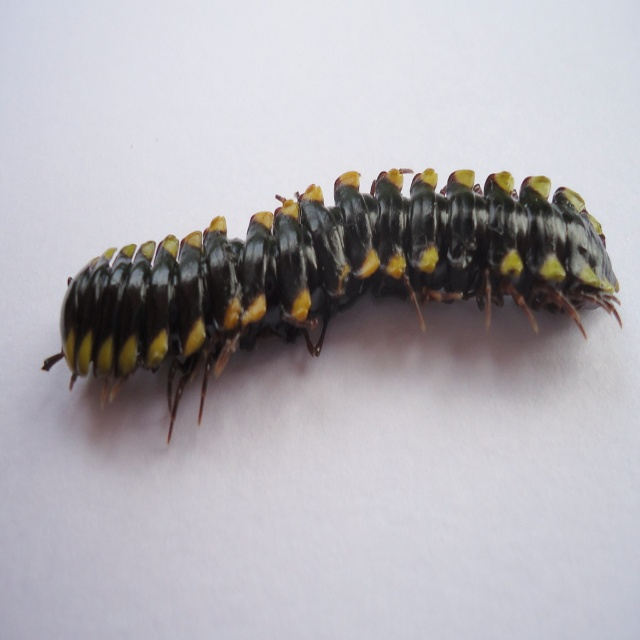Centipede: (44, 166, 621, 445)
